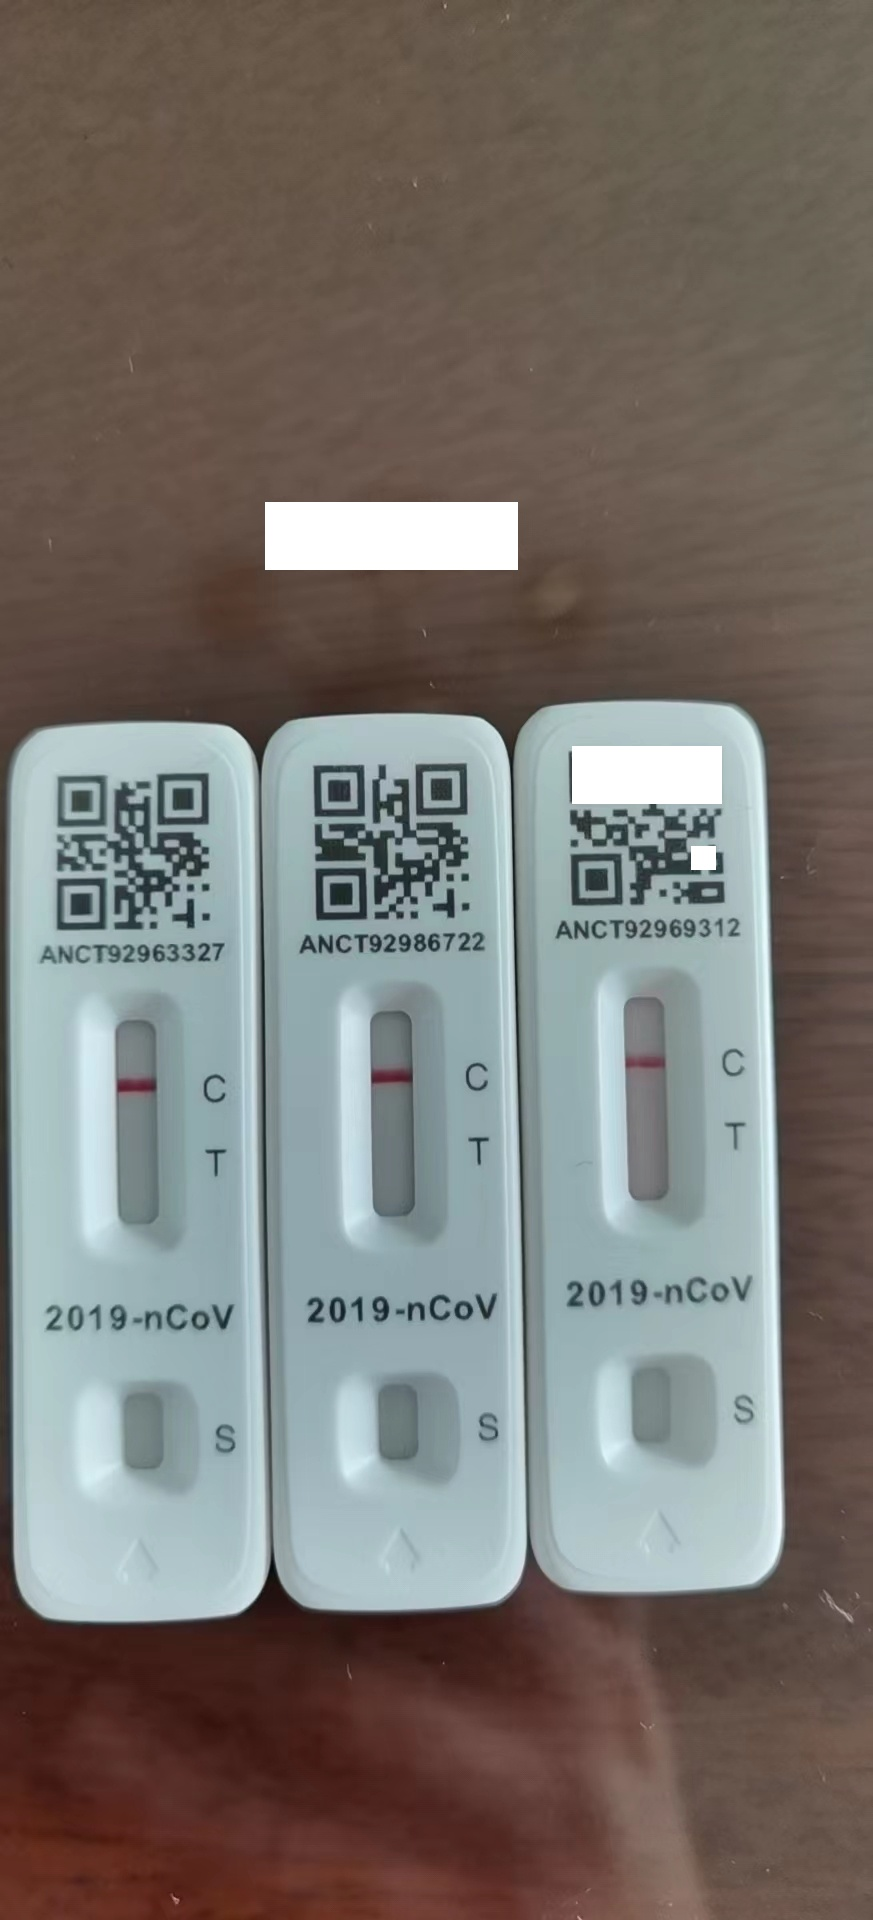negative: (340, 984, 444, 1251), (88, 988, 185, 1258), (600, 967, 698, 1229)
